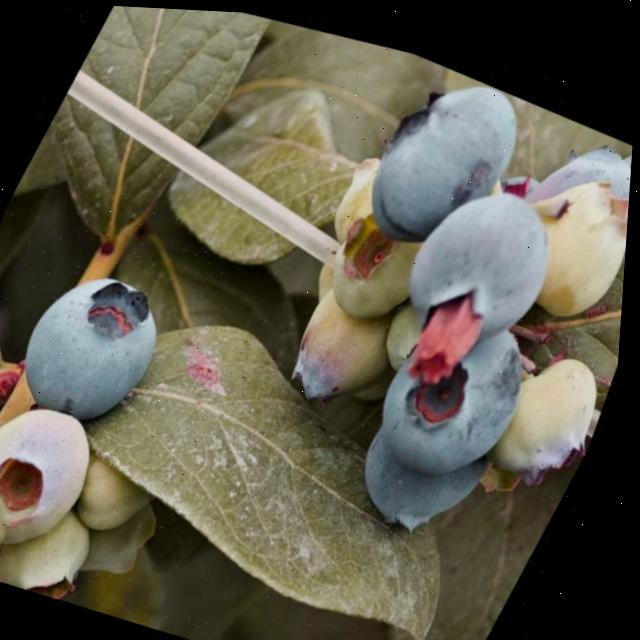RipeBlueBerry: (379, 149, 592, 379), (352, 279, 565, 509), (344, 37, 549, 272), (2, 235, 200, 444)
Semi-RipeBlueBerry: (311, 185, 451, 333)
UnripeBlueBerry: (496, 146, 633, 339), (0, 370, 131, 567), (482, 325, 624, 500), (278, 264, 426, 418)
